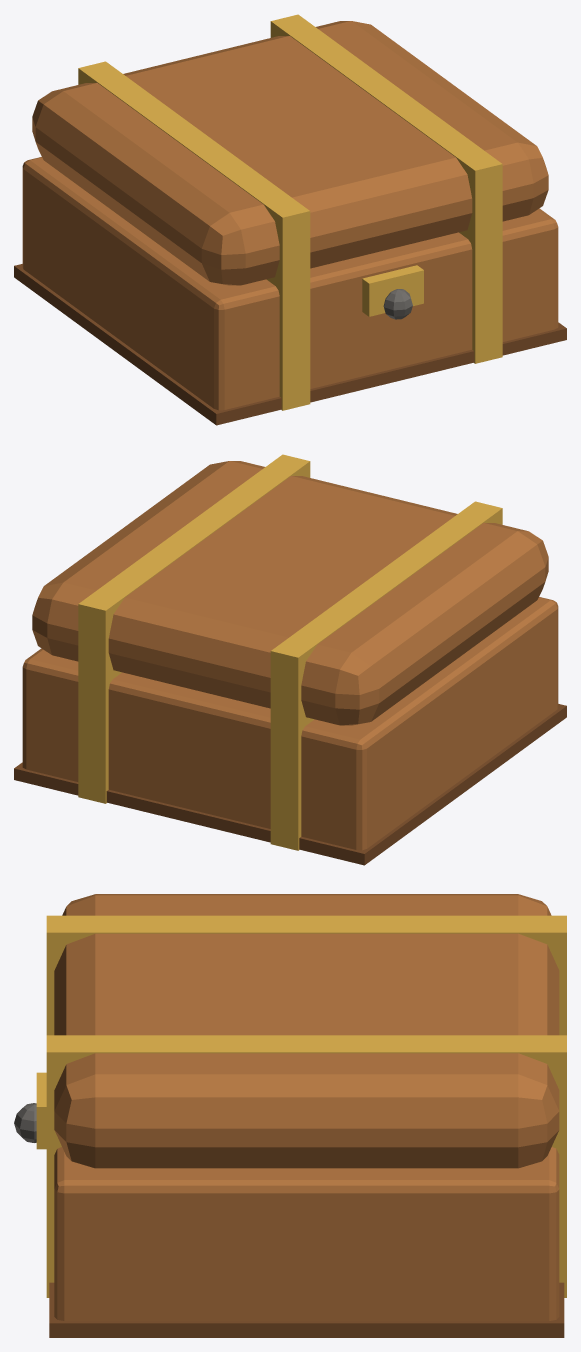
The model's file is chest_m.glb.
3 renders of one model, top to bottom at view 1: azimuth 30°, elevation 25°; view 2: azimuth 150°, elevation 25°; view 3: azimuth 270°, elevation 25°, orthographic. The views are drawn at different scales.
Parts seen in each view (by area): view 1: Lid, ChestM; view 2: Lid, ChestM; view 3: Lid, ChestM.
Part boxes in pixels (bbox=[...]): Lid: bbox=[32, 14, 548, 291]; ChestM: bbox=[14, 157, 566, 425]; Lid: bbox=[32, 454, 548, 731]; ChestM: bbox=[14, 597, 566, 865]; Lid: bbox=[46, 894, 566, 1168]; ChestM: bbox=[14, 1025, 566, 1337].
Bounding box in the file's own units: 3.06 × 1.61 × 3.28.
